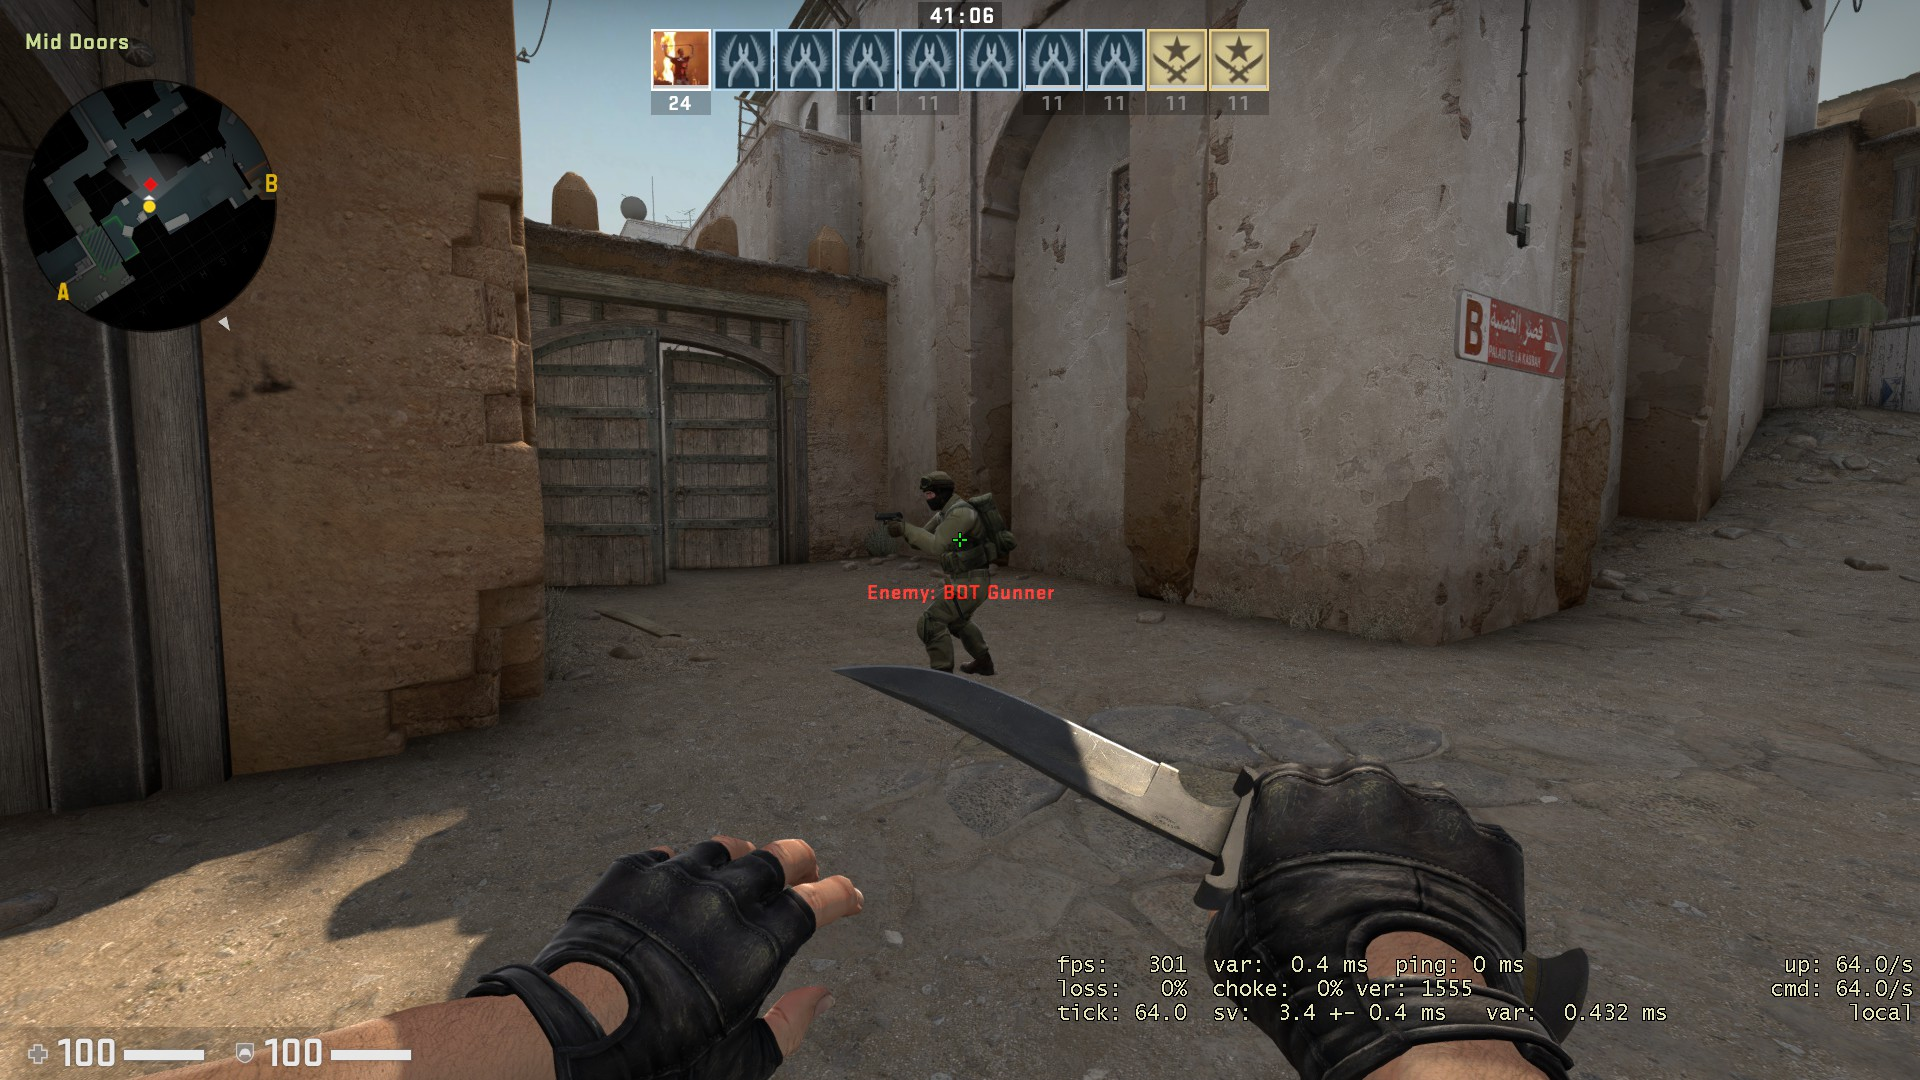player: (872, 464, 1020, 686)
